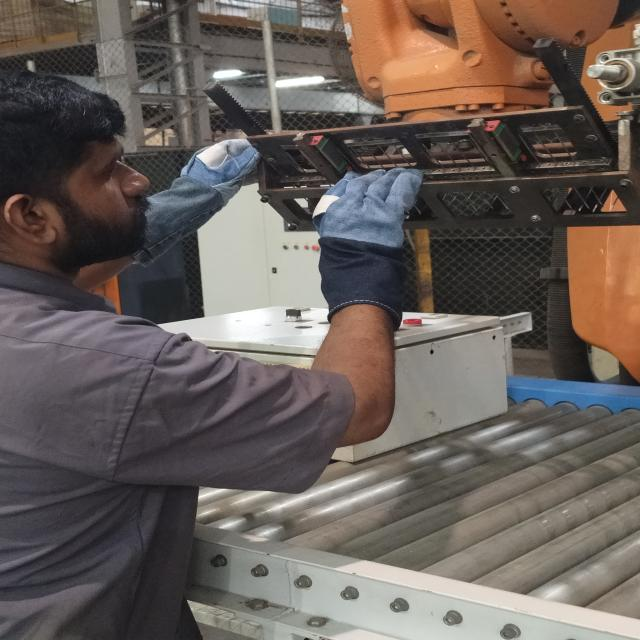Gloves-Detection: (300, 163, 414, 336), (140, 123, 242, 242)
